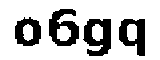6: (48, 8, 80, 50)
g: (81, 15, 113, 60)
o: (14, 17, 43, 49)
q: (115, 16, 150, 60)
